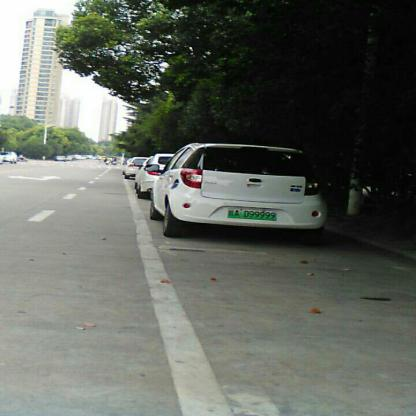lp: (228, 206, 277, 220)
